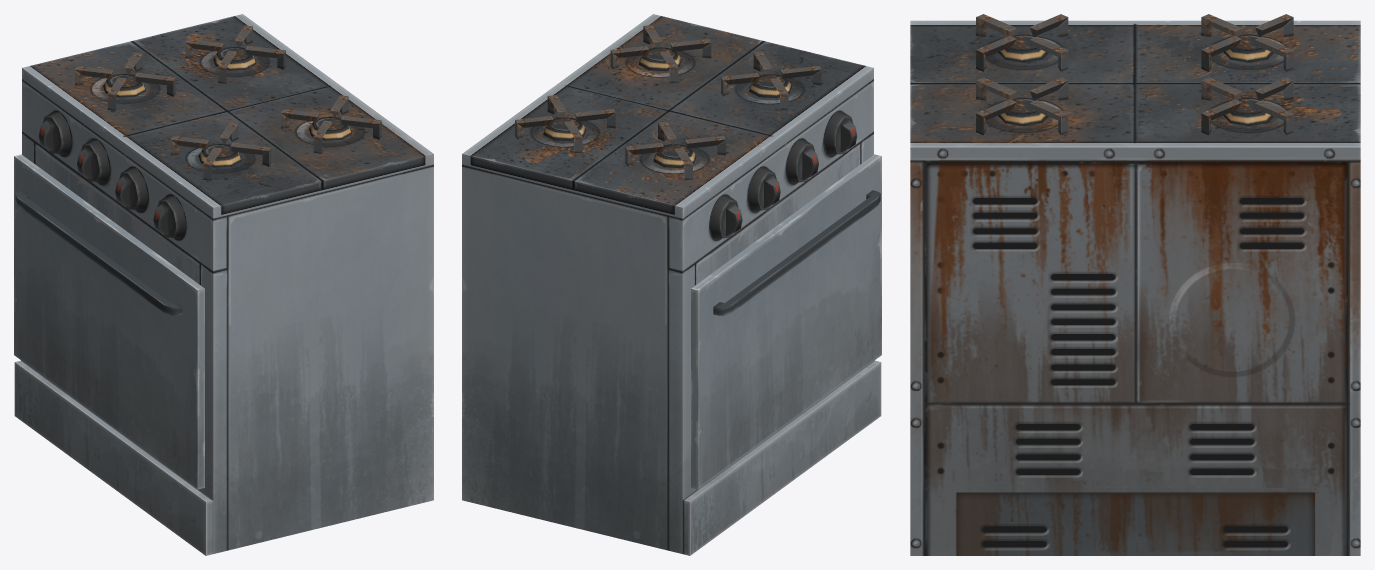
The model's file is kitchen_stove.FBX.
The picture shows the model from 3 angles, left to right: view 1: azimuth 30°, elevation 25°; view 2: azimuth 150°, elevation 25°; view 3: azimuth 270°, elevation 25°; orthographic projection. The views are drawn at different scales.
Visible parts, largest first — view 1: kitchen_stove, kitchen_stove_door; view 2: kitchen_stove, kitchen_stove_door; view 3: kitchen_stove.
Boxes of the visible parts, <box> form: kitchen_stove: <box>14,14,433,555</box>; kitchen_stove_door: <box>14,154,204,489</box>; kitchen_stove: <box>462,14,881,555</box>; kitchen_stove_door: <box>691,154,881,489</box>; kitchen_stove: <box>910,14,1360,555</box>.
Size of the model in its own units: 67.32 by 94.16 by 90.
